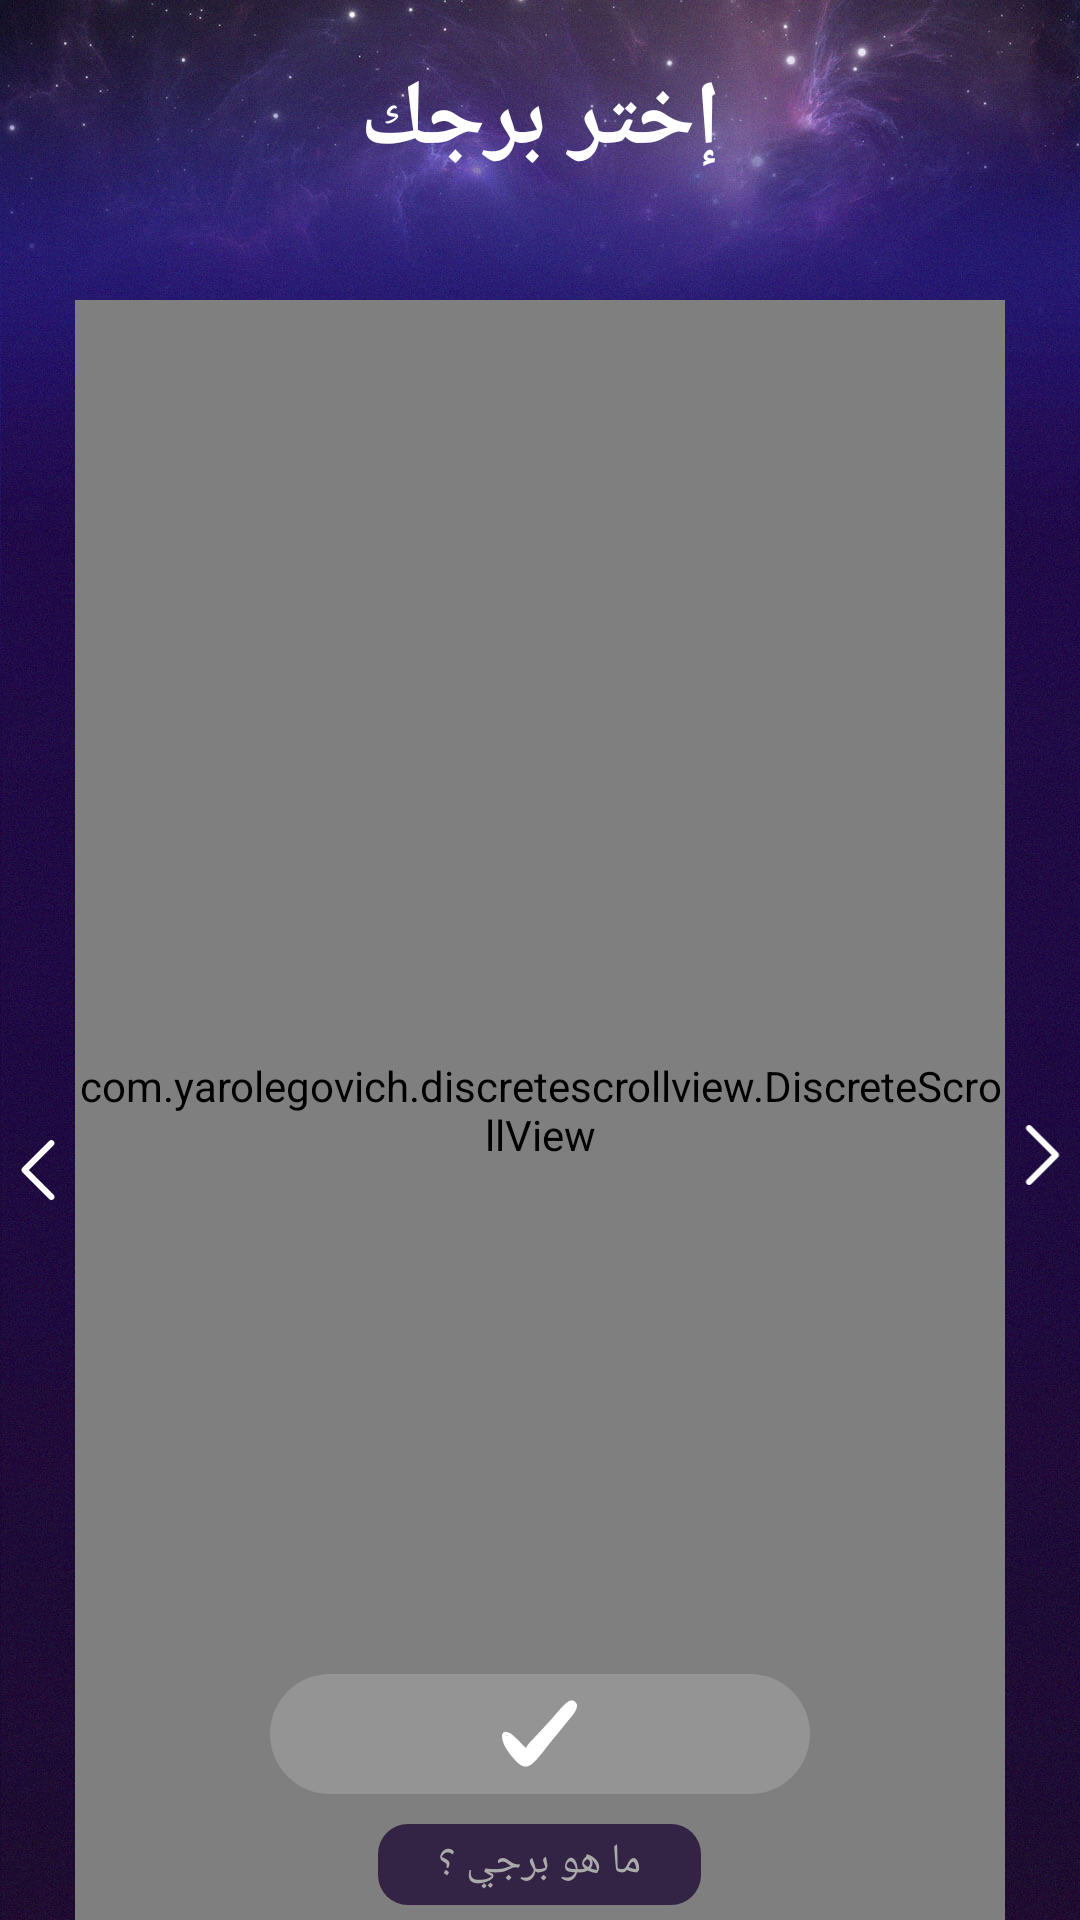

Screen size 1080×1920. Icon name, then its center in pixels as point (x, y):
check mark: point (539, 1733)
